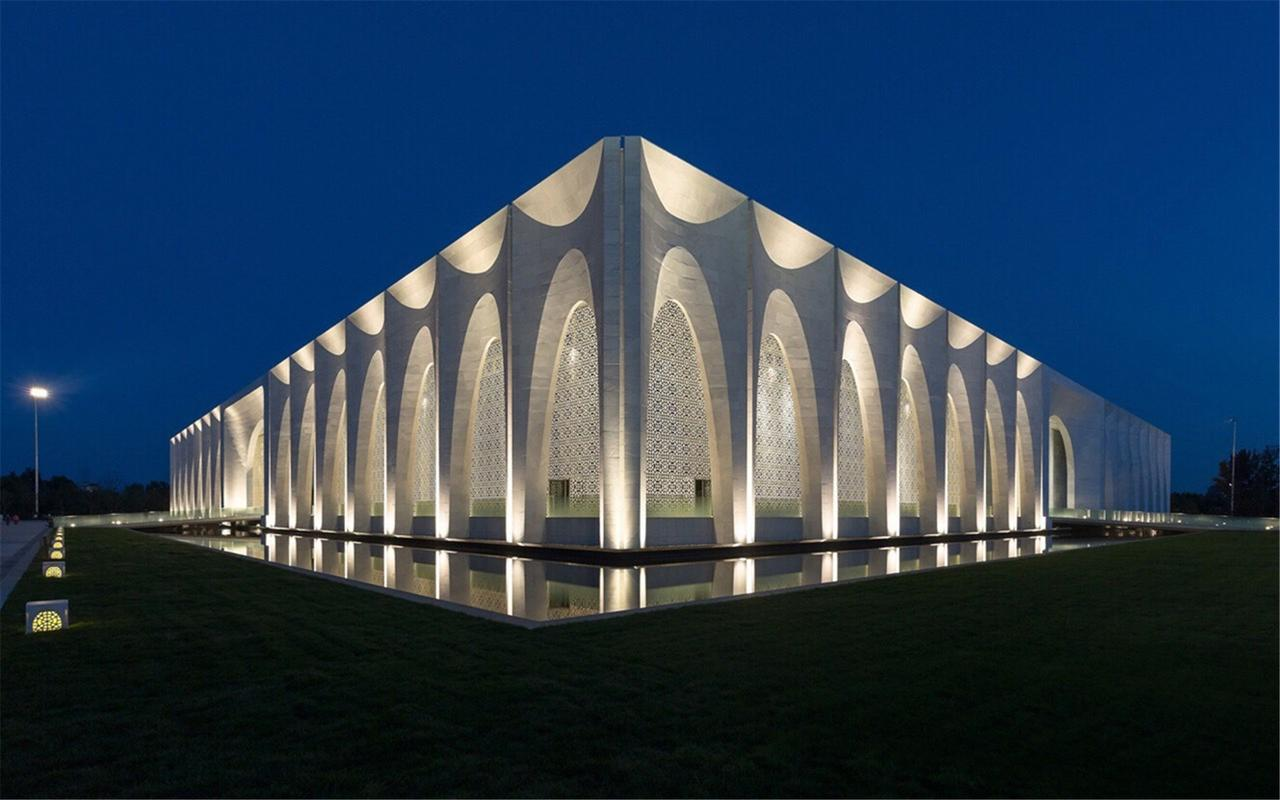buildings: (104, 122, 1176, 566)
